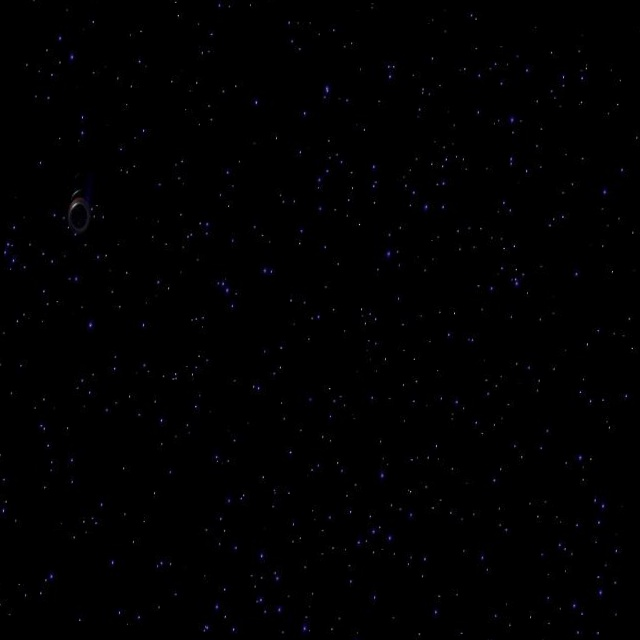large_debris: (65, 163, 96, 238)
